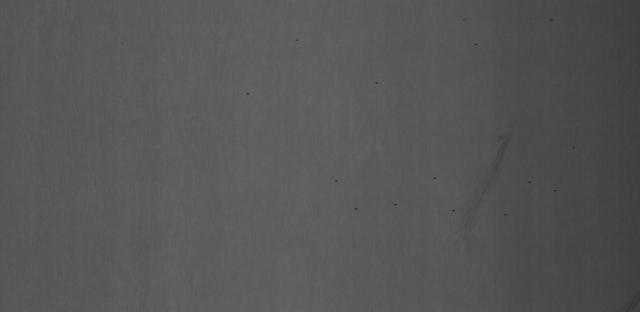inclusion: (524, 176, 558, 197), (388, 198, 404, 210)
water_spot: (448, 125, 520, 234)
